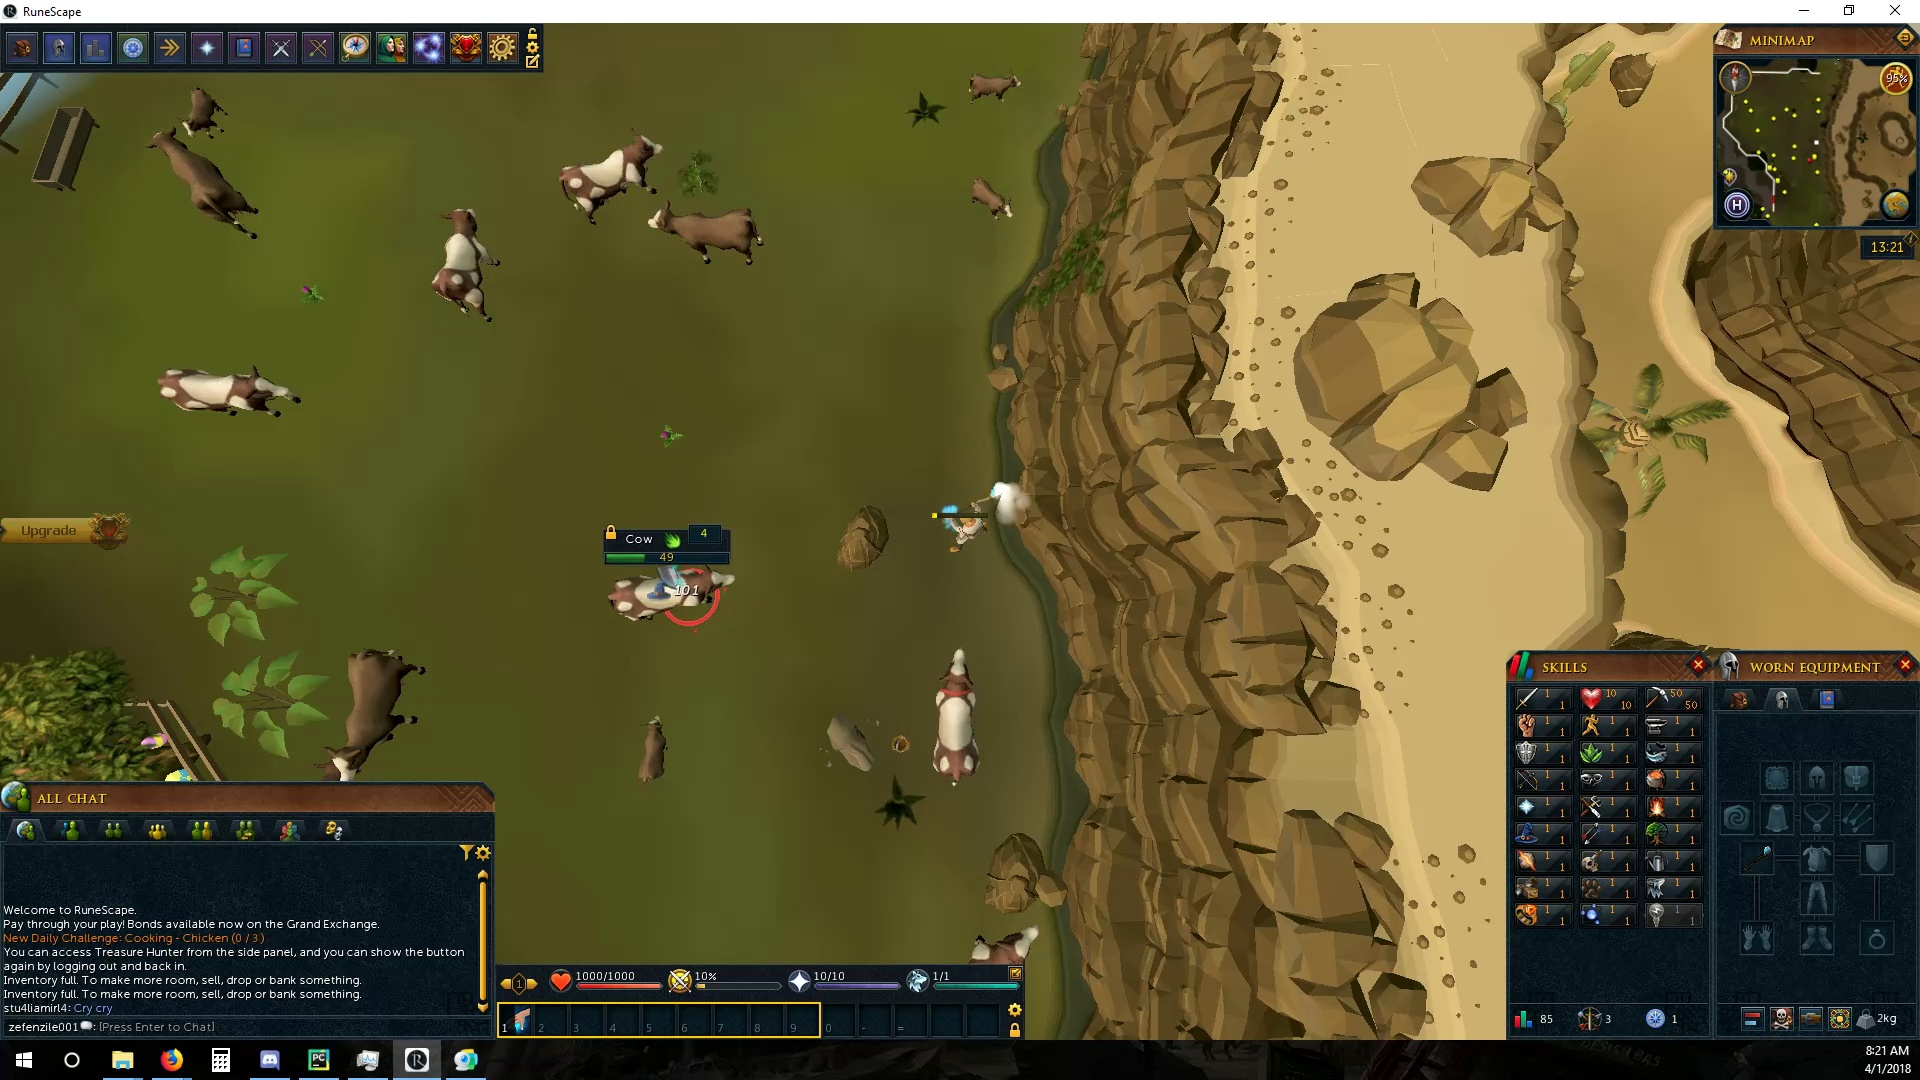calf: (633, 711, 670, 790), (182, 84, 231, 140), (965, 174, 1018, 224), (963, 71, 1023, 103)
cow: (316, 644, 431, 781), (145, 127, 262, 247), (556, 123, 665, 228), (429, 206, 505, 326), (644, 200, 769, 269), (601, 568, 738, 628), (152, 364, 306, 417), (927, 645, 985, 785)
